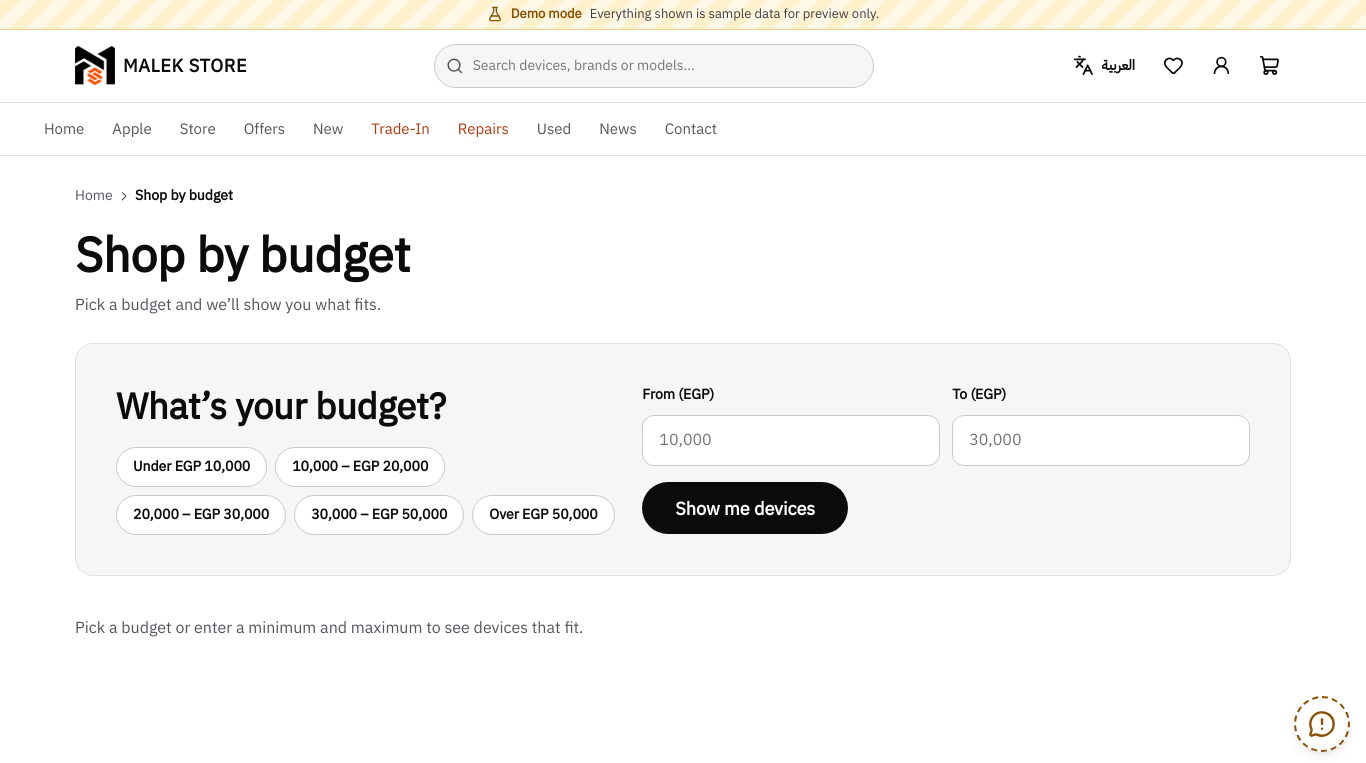
it: search by budget › validates the range and lists devices within it
Expected: the text "Pick a budget or enter a minimum" is shown, 75,616 -> 583,640
Type "30000" into the field labelled "From (EGP)" at (791, 441), box 642,415 -> 940,466
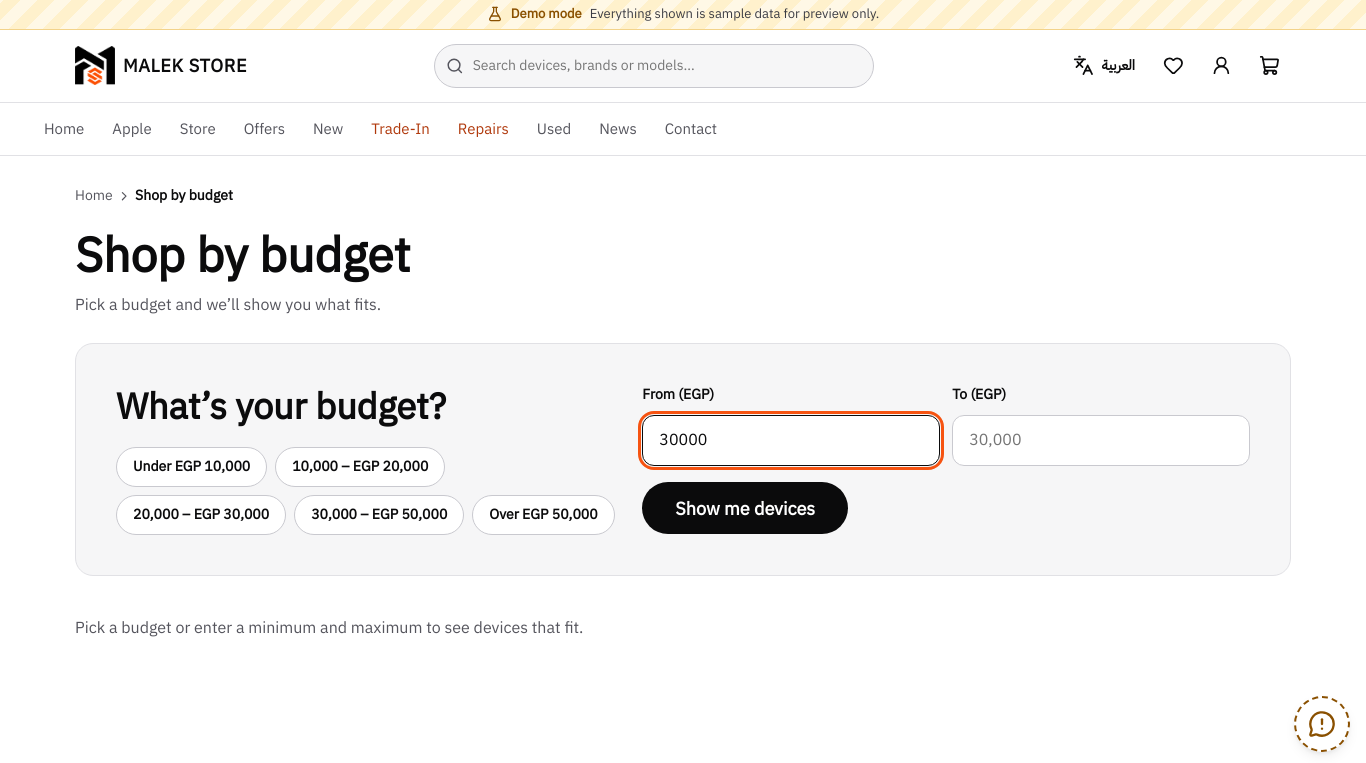
Type "20000" into the field labelled "To (EGP)" at (1101, 441), box 952,415 -> 1250,466
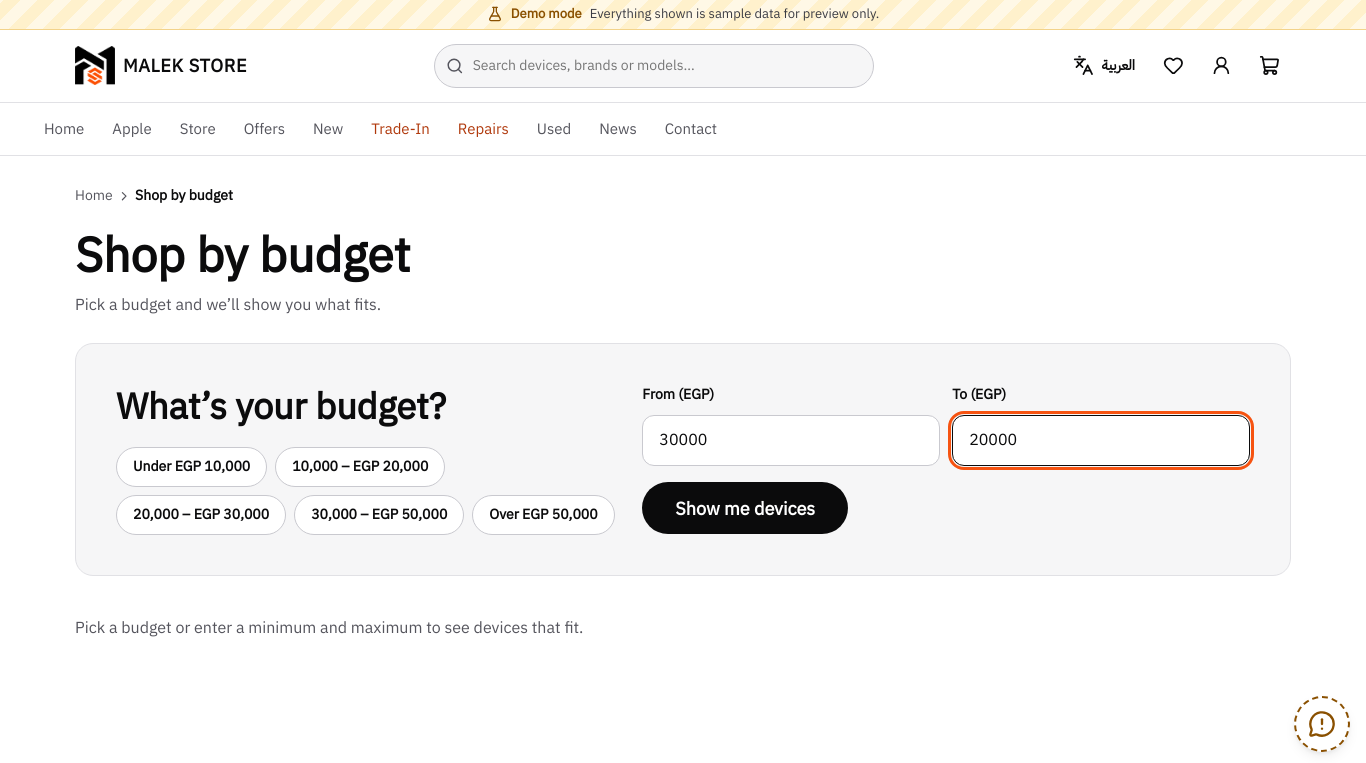
Click the button "Show me devices" at (745, 508), box 642,482 -> 848,534
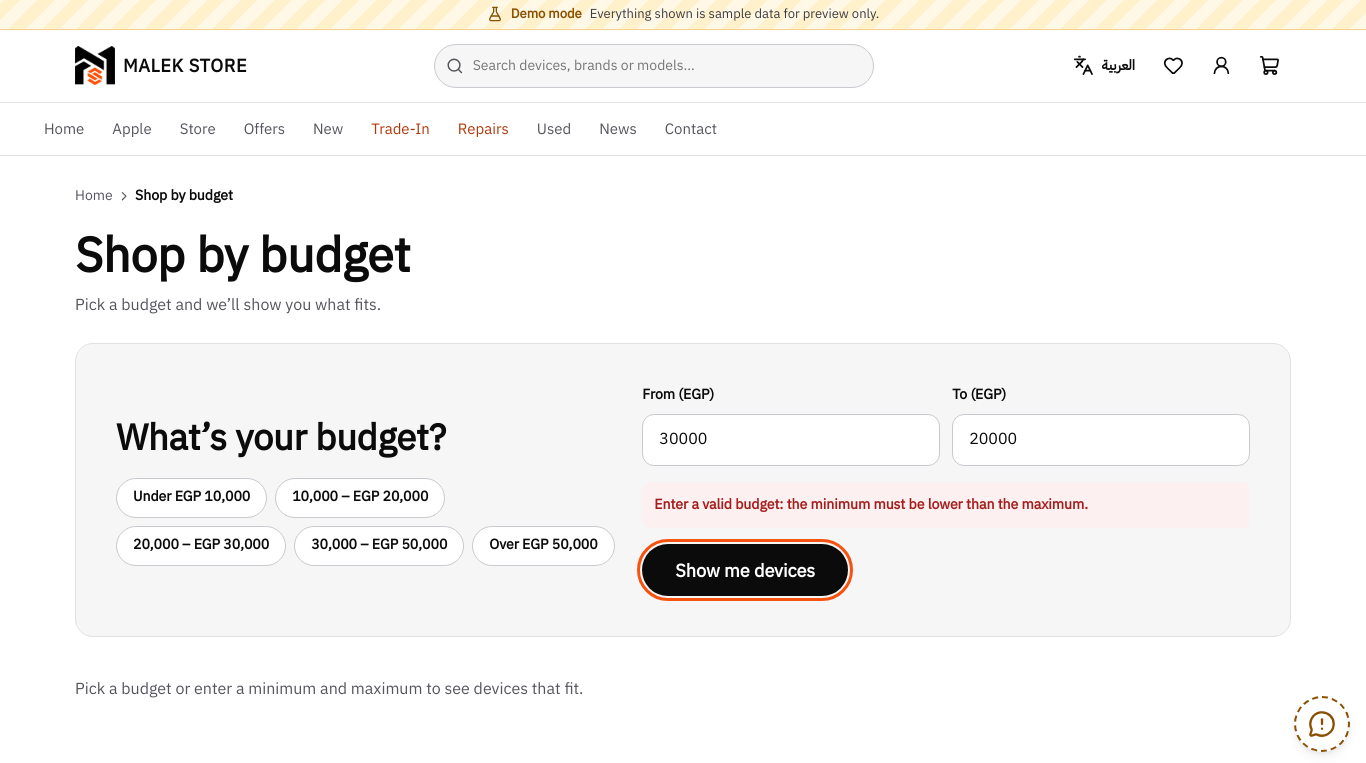
Expected: the message shows "minimum must be lower", 654,494 -> 1088,515
Replace the text in the field labelled "From (EGP)" with "٢٠٠٠٠" at (791, 440), box 642,414 -> 940,466
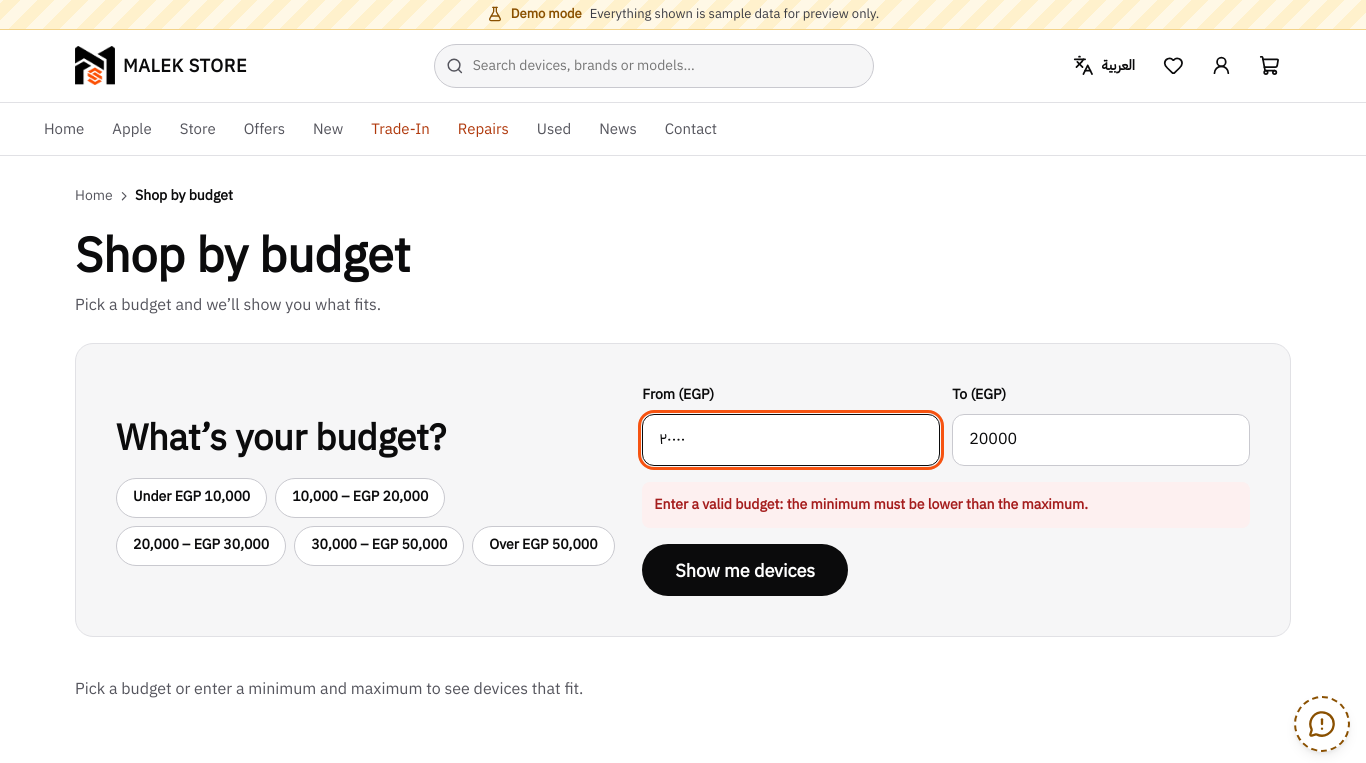
Replace the text in the field labelled "To (EGP)" with "30000" at (1101, 440), box 952,414 -> 1250,466
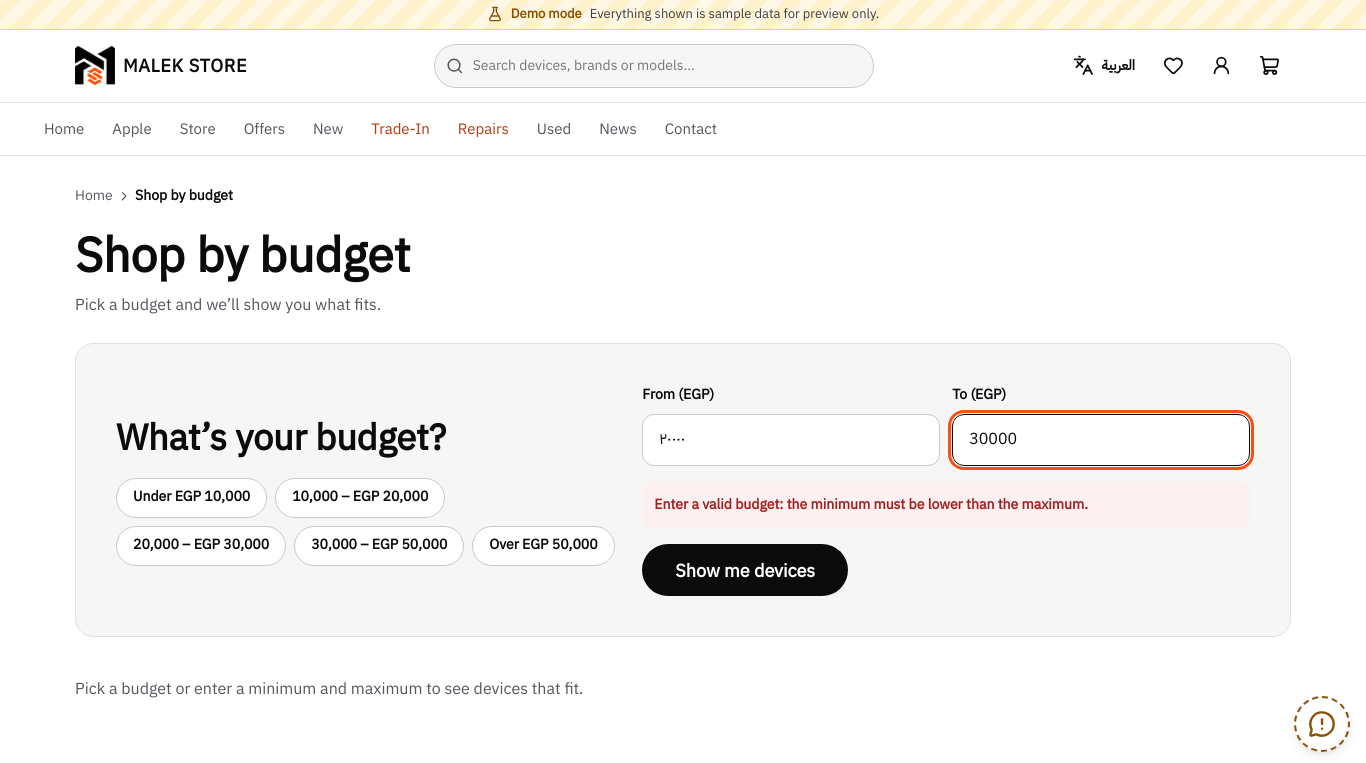
Click the button "Show me devices" at (745, 570), box 642,544 -> 848,596
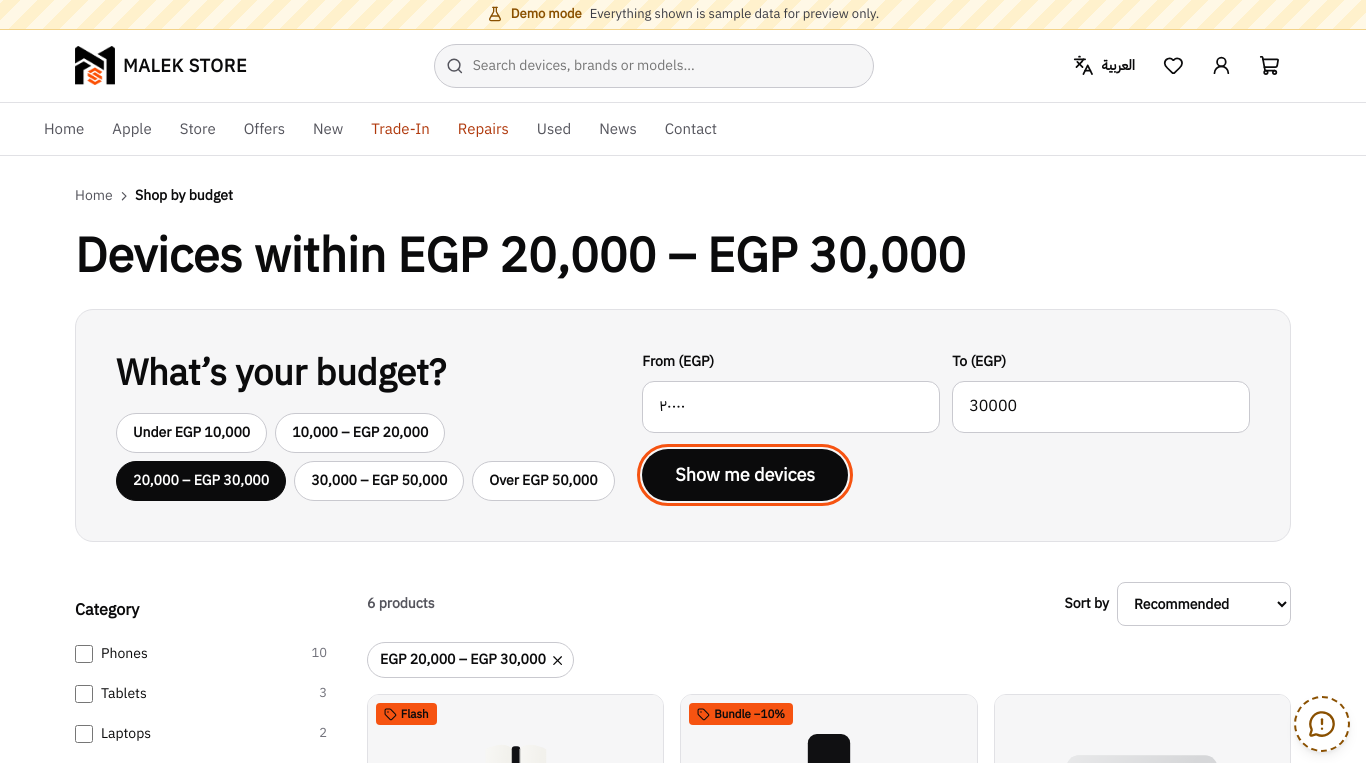
Expected: the text "6 products" is shown, 367,593 -> 435,615
